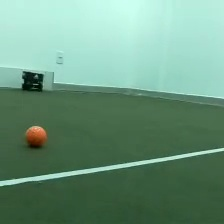ball: (22, 123, 48, 149)
goal: (1, 64, 55, 93)
robot: (20, 68, 45, 93)
